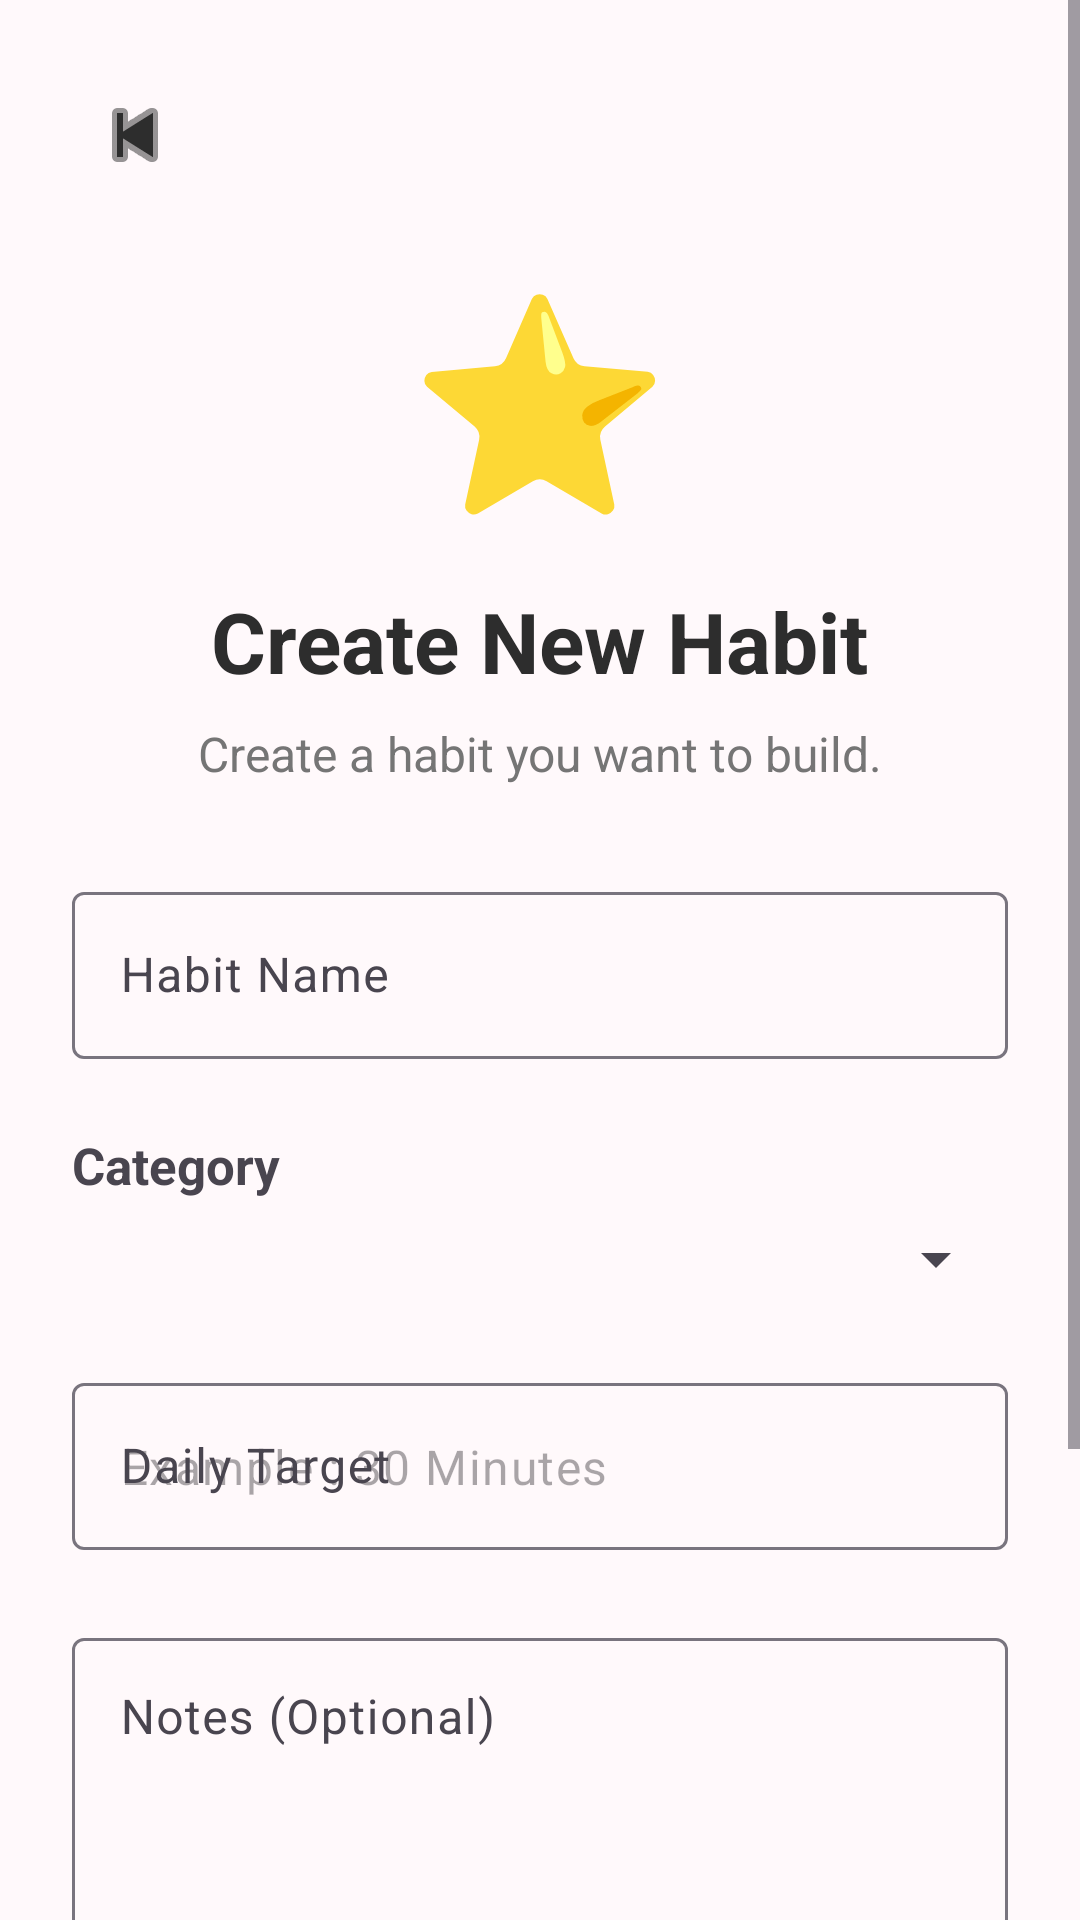

Where icons sit on this 1080x1920 app screen, as (x1, y1, x2, y2):
previous: (112, 108, 158, 162)
